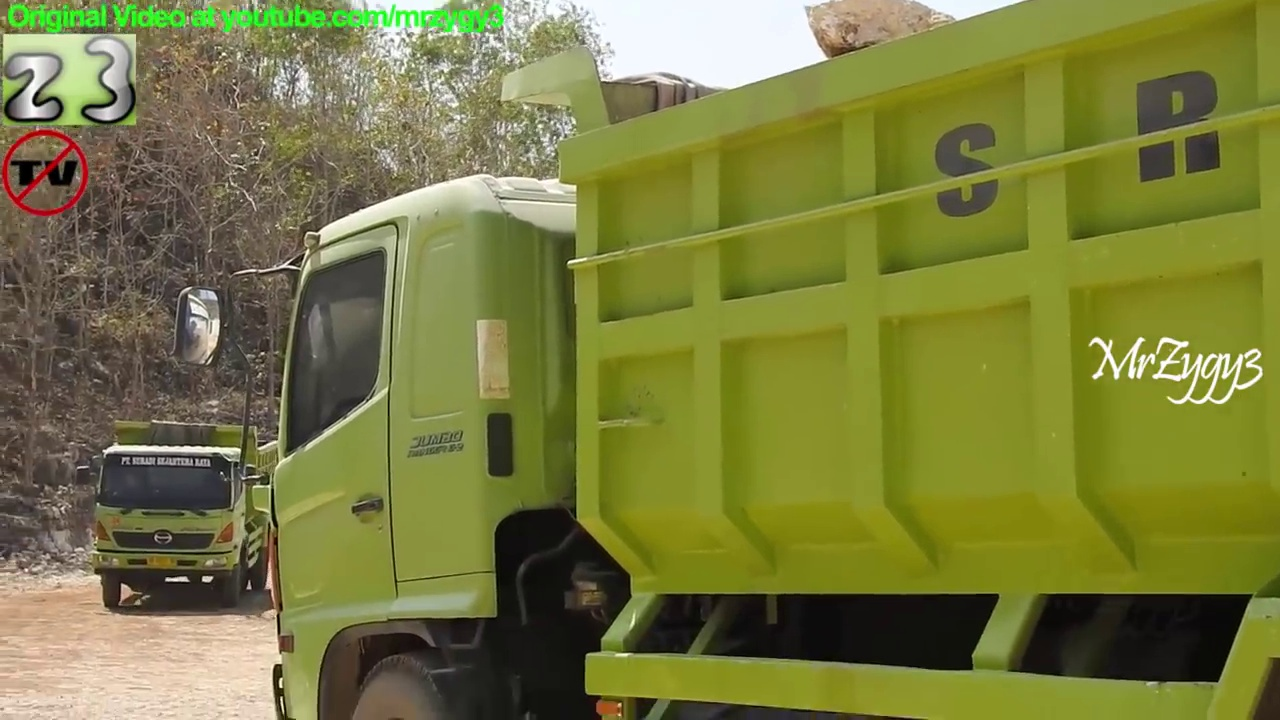truck: (164, 1, 1280, 720), (69, 412, 303, 619)
